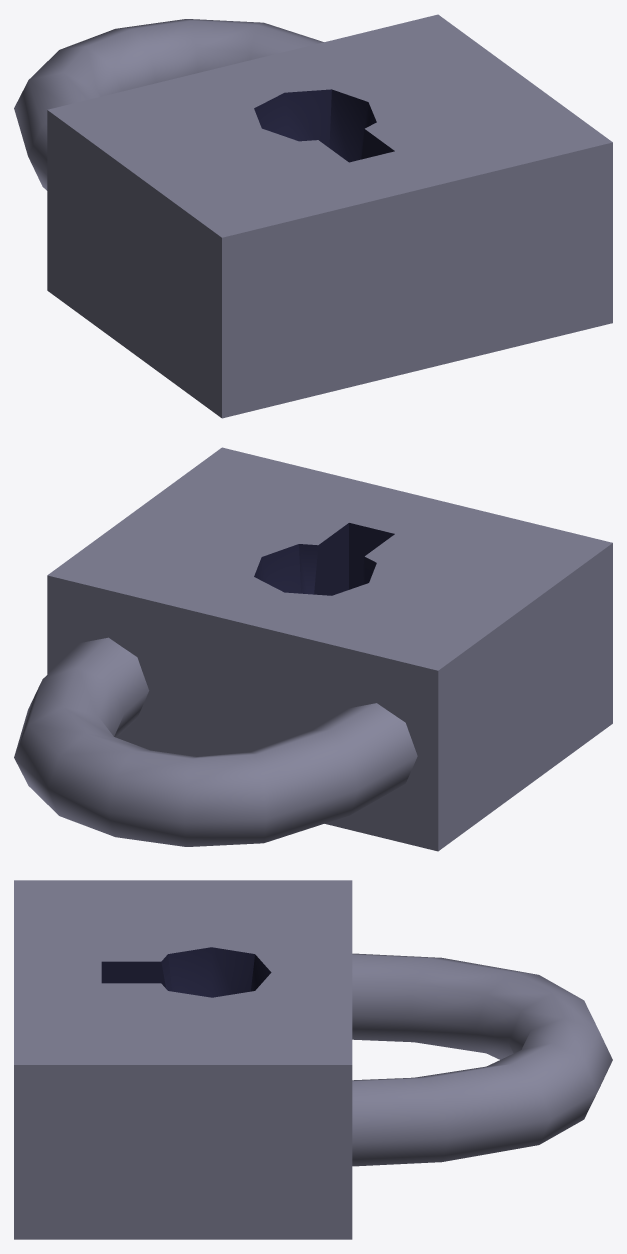
Rendered from lock_v01.fbx.
The picture shows the model from 3 angles, top to bottom: view 1: azimuth 30°, elevation 25°; view 2: azimuth 150°, elevation 25°; view 3: azimuth 270°, elevation 25°; orthographic projection. The views are drawn at different scales.
Visible parts, largest first — view 1: Lock; view 2: Lock; view 3: Lock.
Boxes of the visible parts, x1,y1,x2,y2 form: Lock: (14,14,612,418); Lock: (14,447,612,851); Lock: (14,880,612,1239).
Size of the model in its own units: 447 by 197 by 613.
